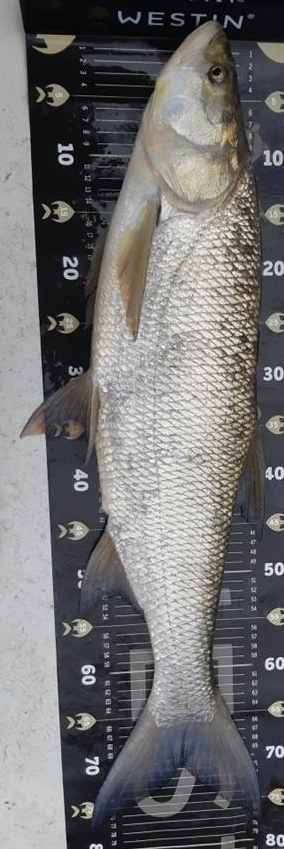Aspius aspius: (20, 20, 264, 829)
